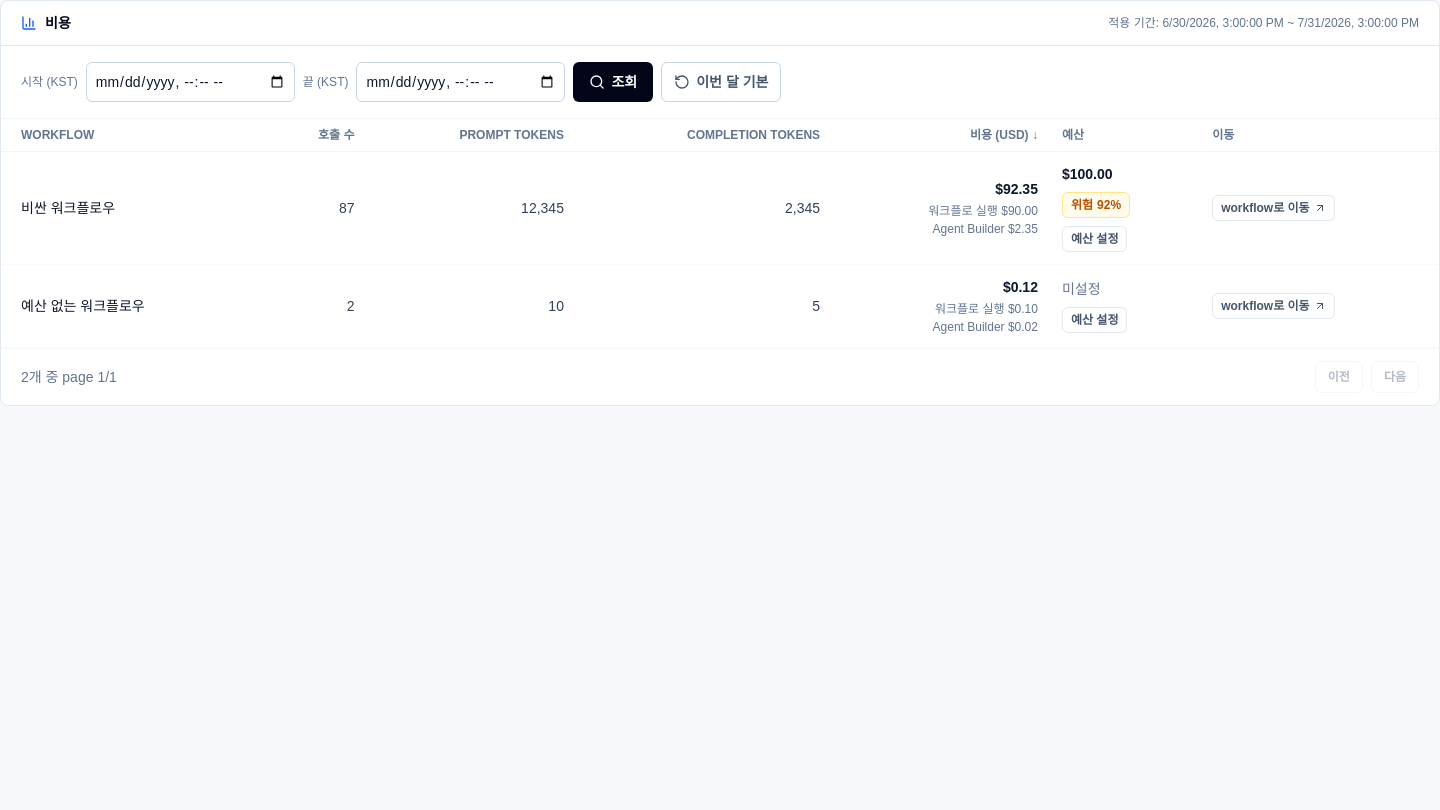
UsageTab 예산 컬럼 › 예산 설정 버튼을 누르면 BudgetEditModal이 열린다
The width and height of the screenshot is (1440, 810).
Expected: the text "비싼 워크플로우" is shown, x1=1 y1=152 x2=268 y2=264
Click the button "예산 설정" below "위험" at (1095, 239), box x1=1062 y1=226 x2=1128 y2=252
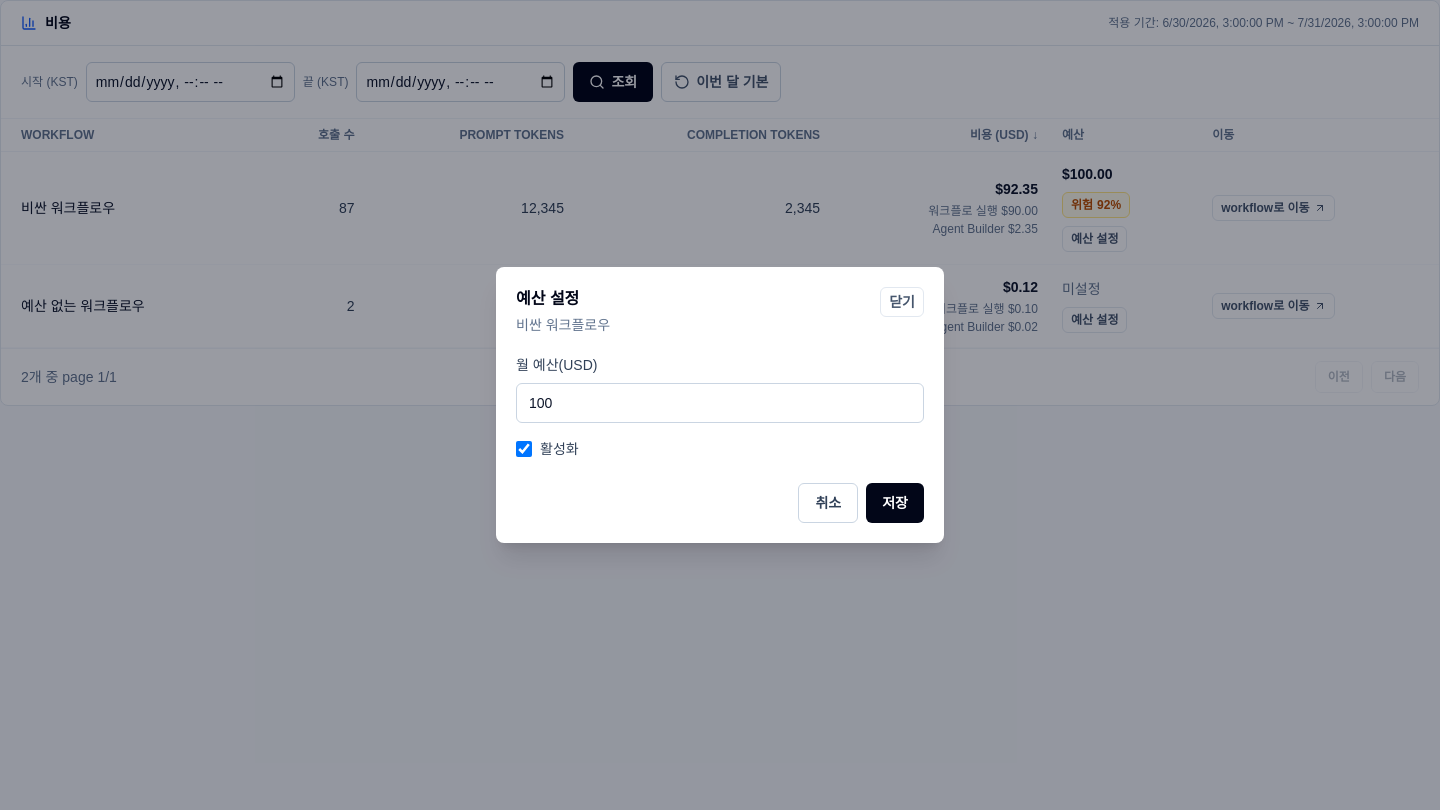
Expected: the number field labelled "월 예산(USD)" is shown, x1=516 y1=383 x2=924 y2=423
